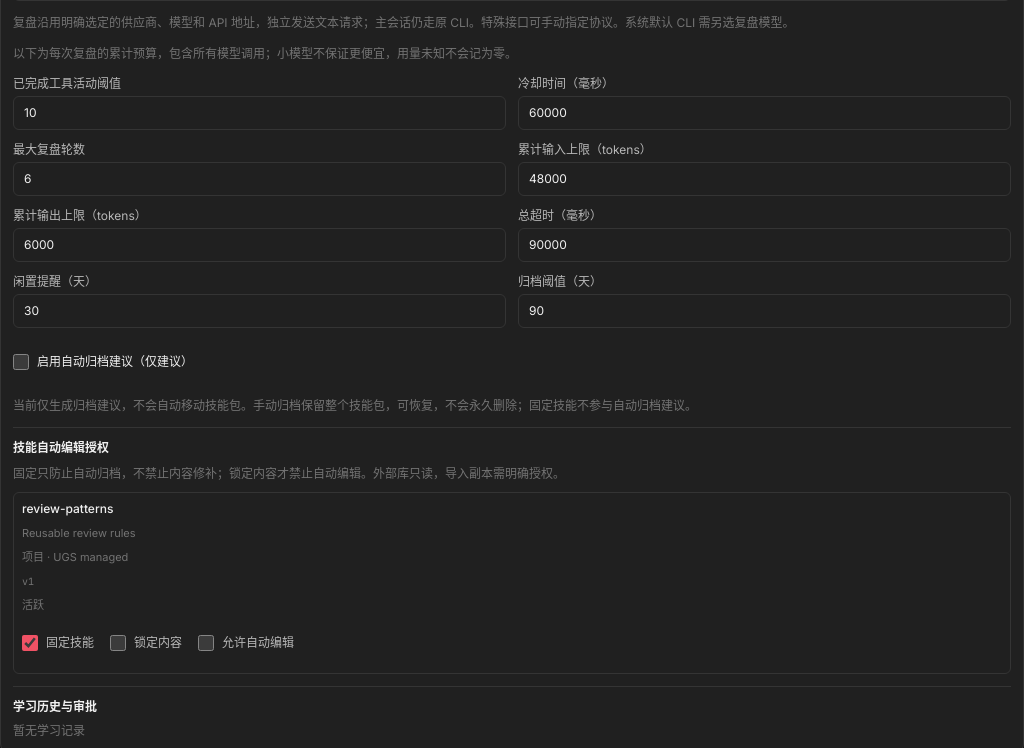
it: SkillLearningSettings › leaves permission flags unchanged after a failed authorization request
The image size is (1024, 748).
(page scrolled)
Click the checkbox named "允许自动编辑 review-patterns": click(206, 643) [198,635,214,651]
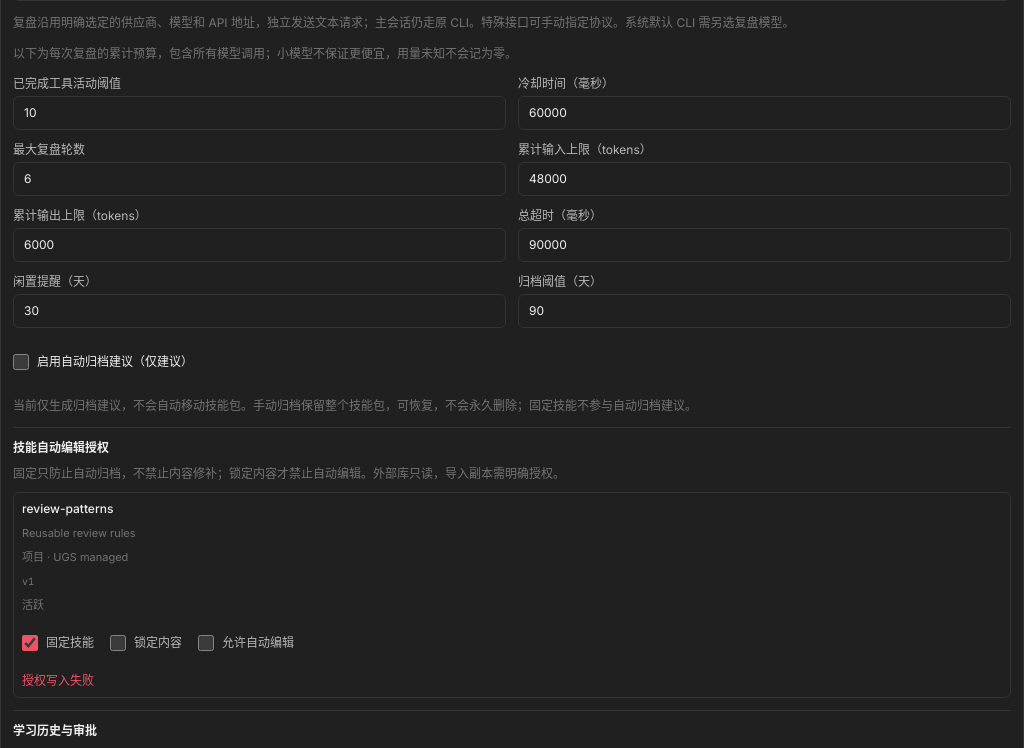
Result: the message "授权写入失败" is shown at [22,673,94,688]
